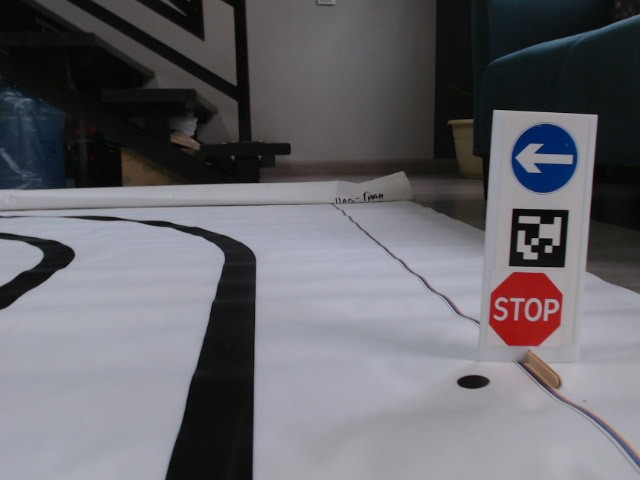Stop: (486, 271, 569, 350)
